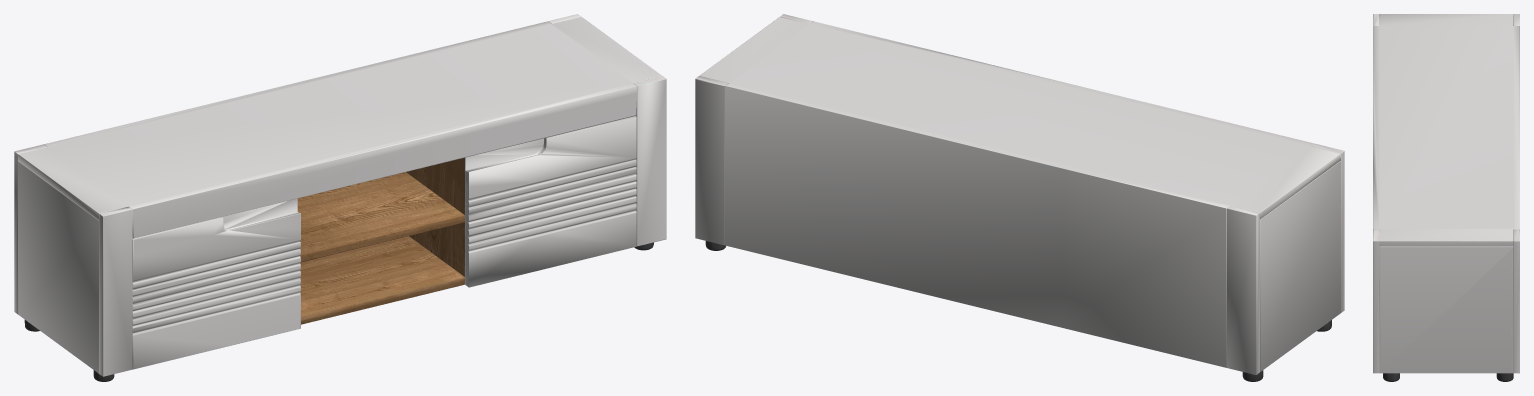
The model's file is B07SB8WWHD.glb.
3 renders of one model, left to right at view 1: azimuth 30°, elevation 25°; view 2: azimuth 150°, elevation 25°; view 3: azimuth 270°, elevation 25°, orthographic. The views are drawn at different scales.
Visible parts, largest first — view 1: B07SB8WWHD; view 2: B07SB8WWHD; view 3: B07SB8WWHD.
Boxes of the visible parts, x1=… form: B07SB8WWHD: x1=14, y1=14, x2=666, y2=381; B07SB8WWHD: x1=695, y1=14, x2=1344, y2=381; B07SB8WWHD: x1=1373, y1=14, x2=1519, y2=381.
Bounding box in the file's own units: 1.5 × 0.4401 × 0.41.
1 material, 1 textured.
